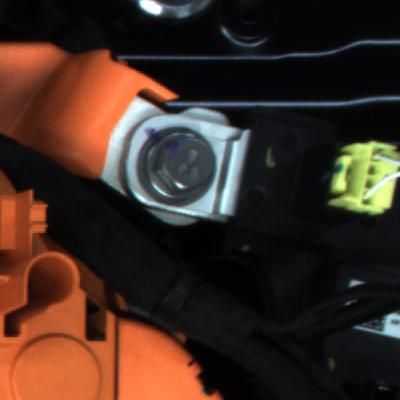nut_b: (125, 118, 228, 208)
